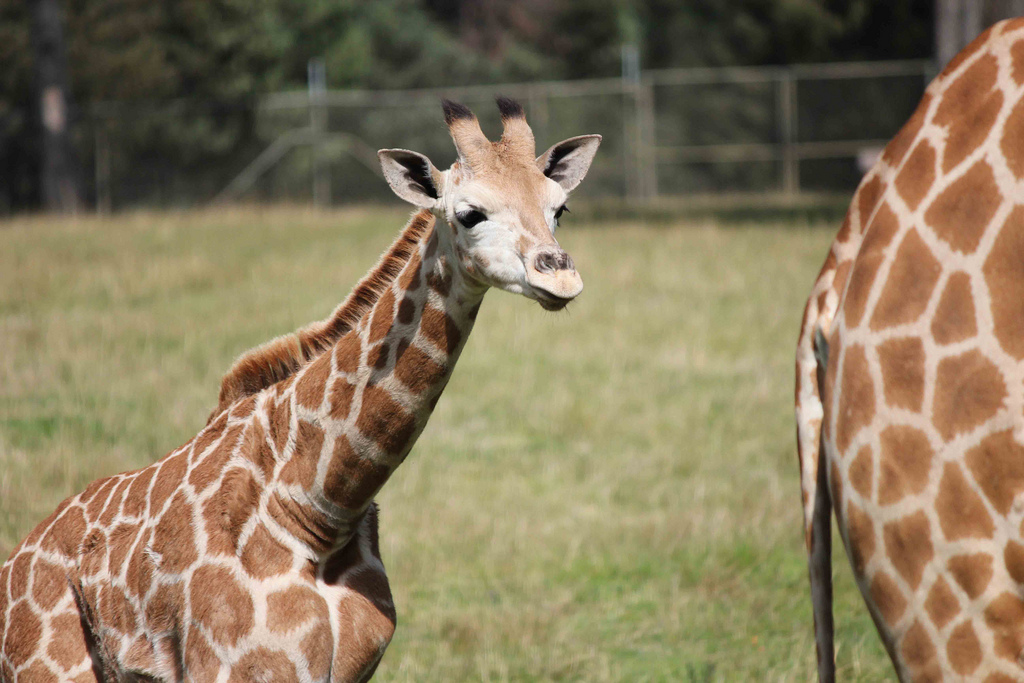giraffe: (14, 64, 656, 650)
